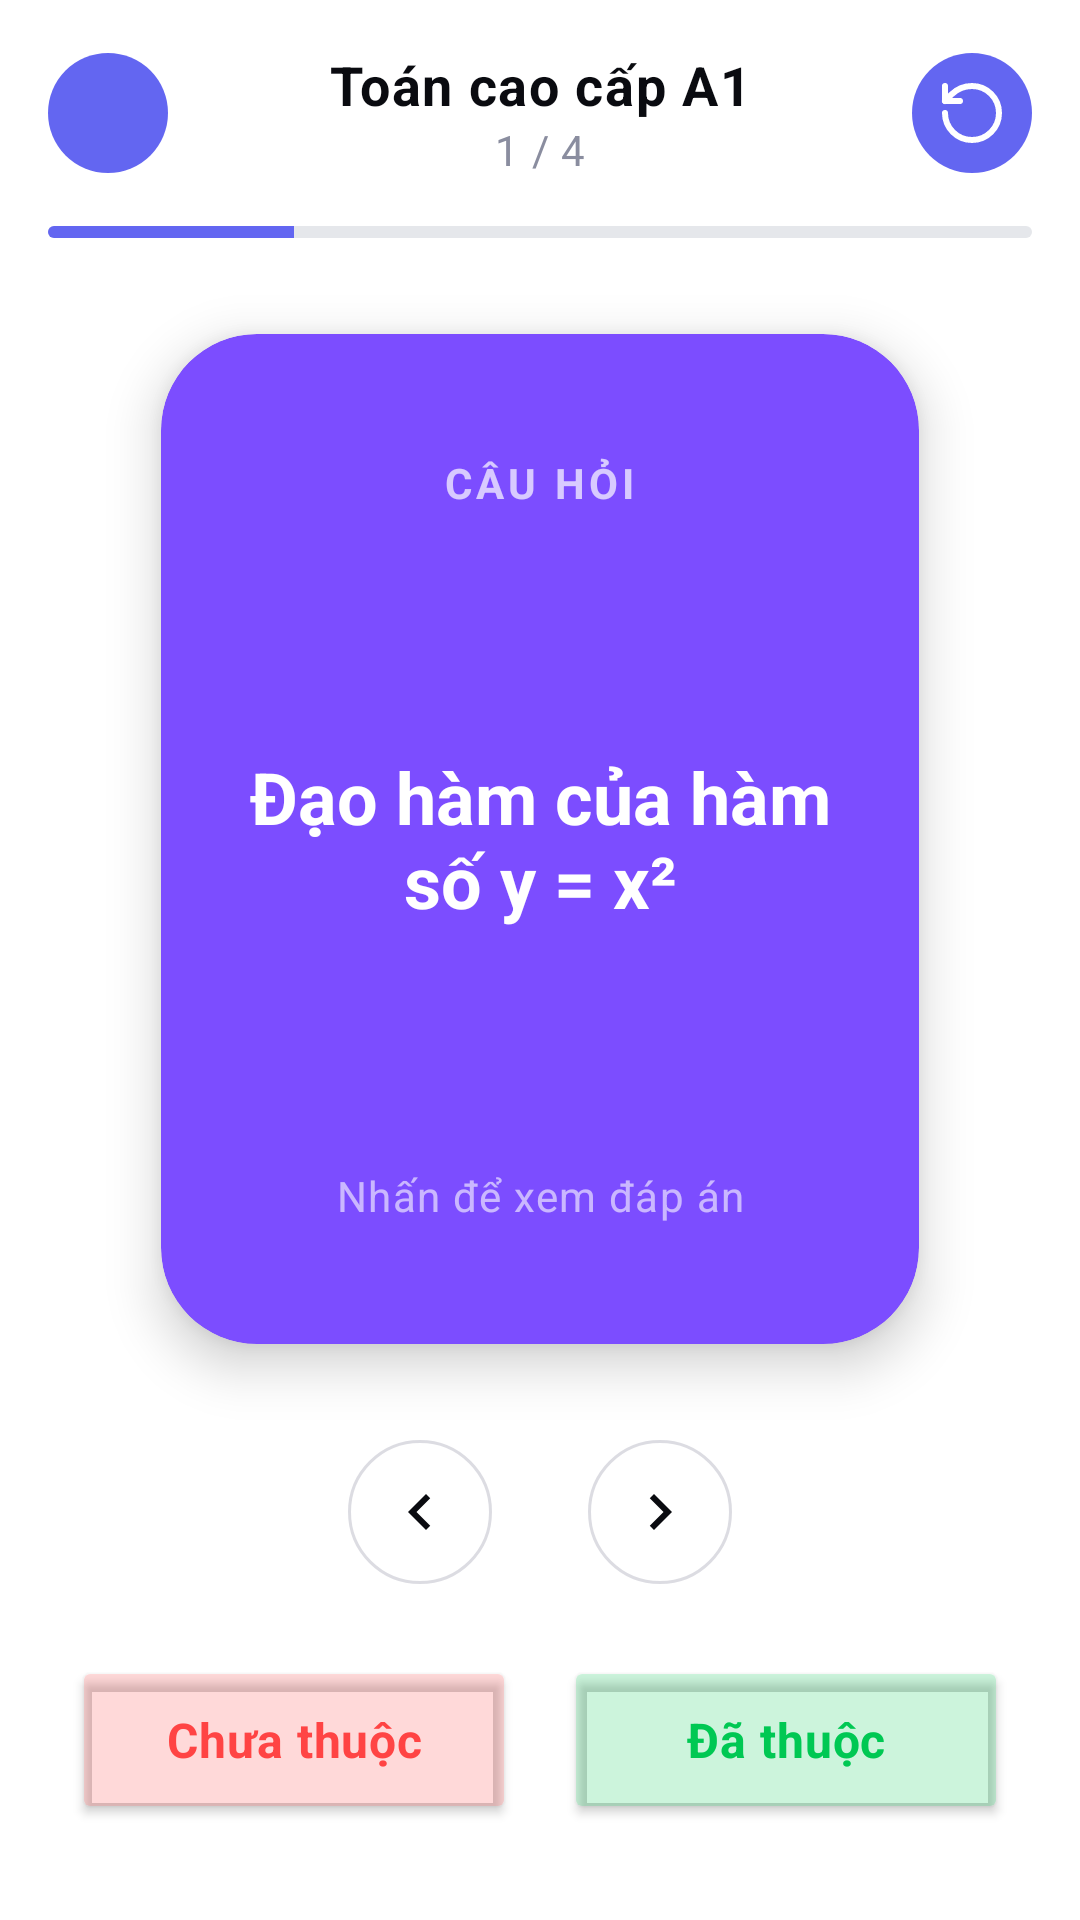

Locate icon controls on the screen. Image size 1080×1920, boxes as (x1,y1,x2,y2).
chevron left: (348,1440,492,1584)
chevron right: (588,1440,732,1584)
Làm lại: (912,53,1032,173)
